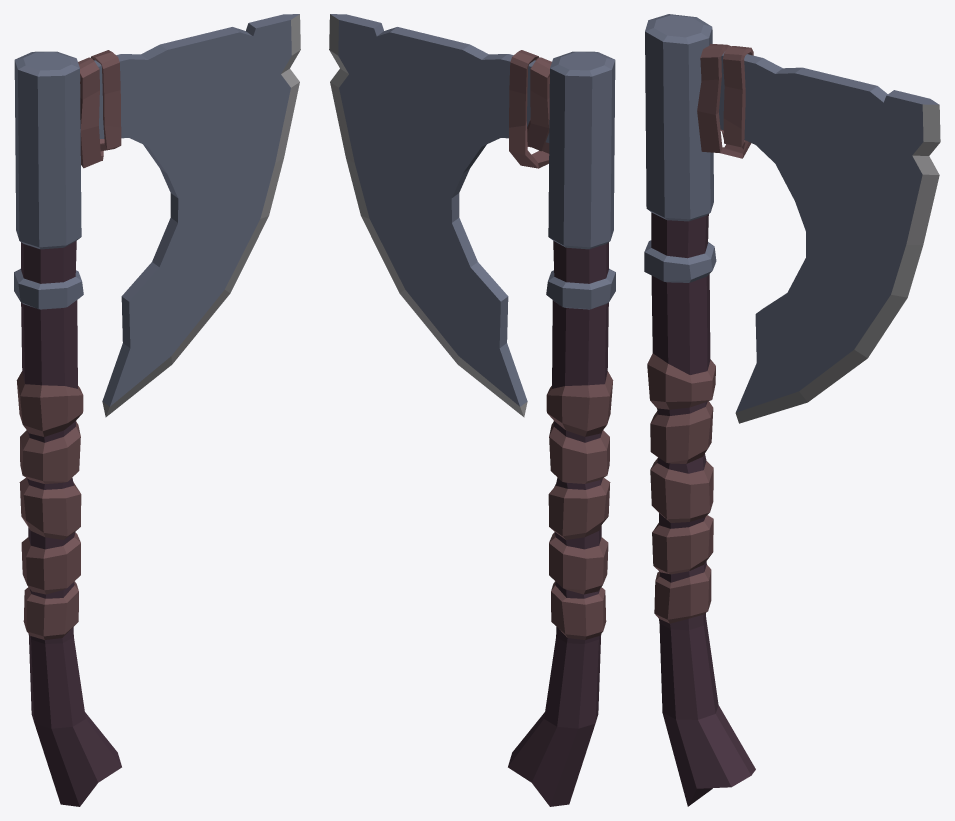
File: axe_small.glb
3 renders of one model, left to right at view 1: azimuth 30°, elevation 25°; view 2: azimuth 150°, elevation 25°; view 3: azimuth 330°, elevation 25°, orthographic. The views are drawn at different scales.
Visible parts, largest first — view 1: Axe_small; view 2: Axe_small; view 3: Axe_small.
Boxes of the visible parts, bbox=[...] form: Axe_small: bbox=[14, 14, 300, 806]; Axe_small: bbox=[329, 14, 615, 806]; Axe_small: bbox=[644, 14, 940, 806].
Size of the model in its own units: 0.6236 by 1.57 by 0.1322.
